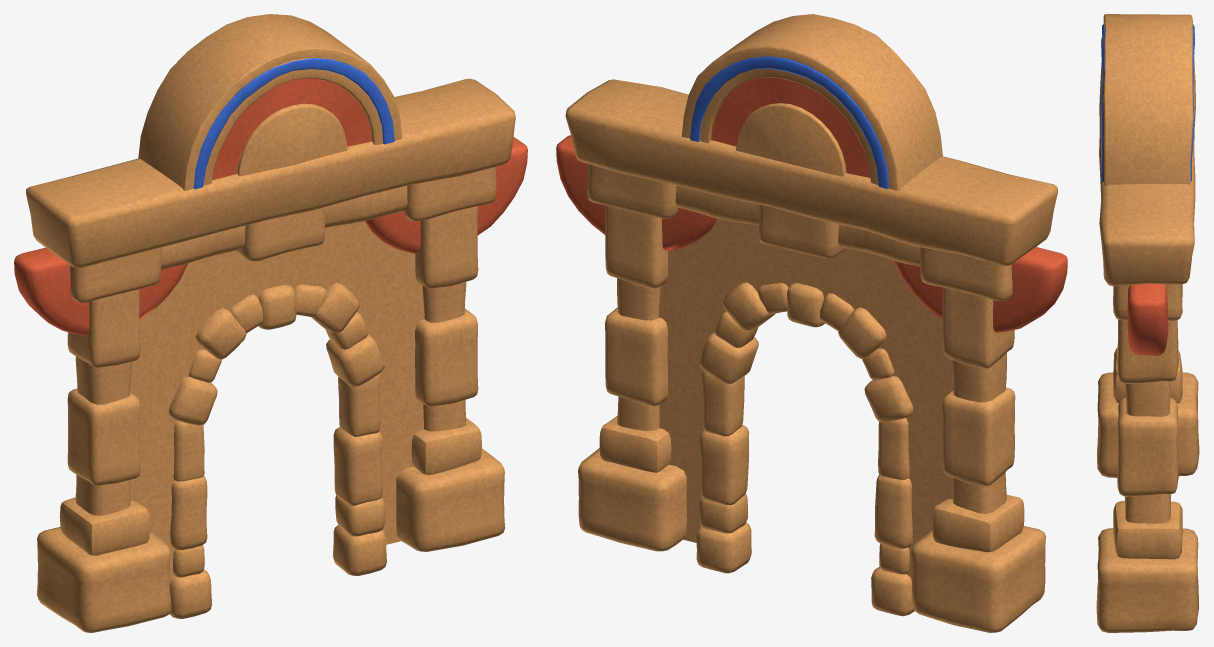
Rendered from door_a.fbx.
3 renders of one model, left to right at view 1: azimuth 30°, elevation 25°; view 2: azimuth 150°, elevation 25°; view 3: azimuth 270°, elevation 25°, orthographic. The views are drawn at different scales.
Visible parts, largest first — view 1: small_stone_block_A.016; view 2: small_stone_block_A.016; view 3: small_stone_block_A.016.
Boxes of the visible parts, left/top/right/bottom form: small_stone_block_A.016: left=14, top=14, right=527, bottom=632; small_stone_block_A.016: left=556, top=14, right=1067, bottom=632; small_stone_block_A.016: left=1096, top=14, right=1199, bottom=632.
Bounding box in the file's own units: 6.01 × 6.38 × 1.12.
